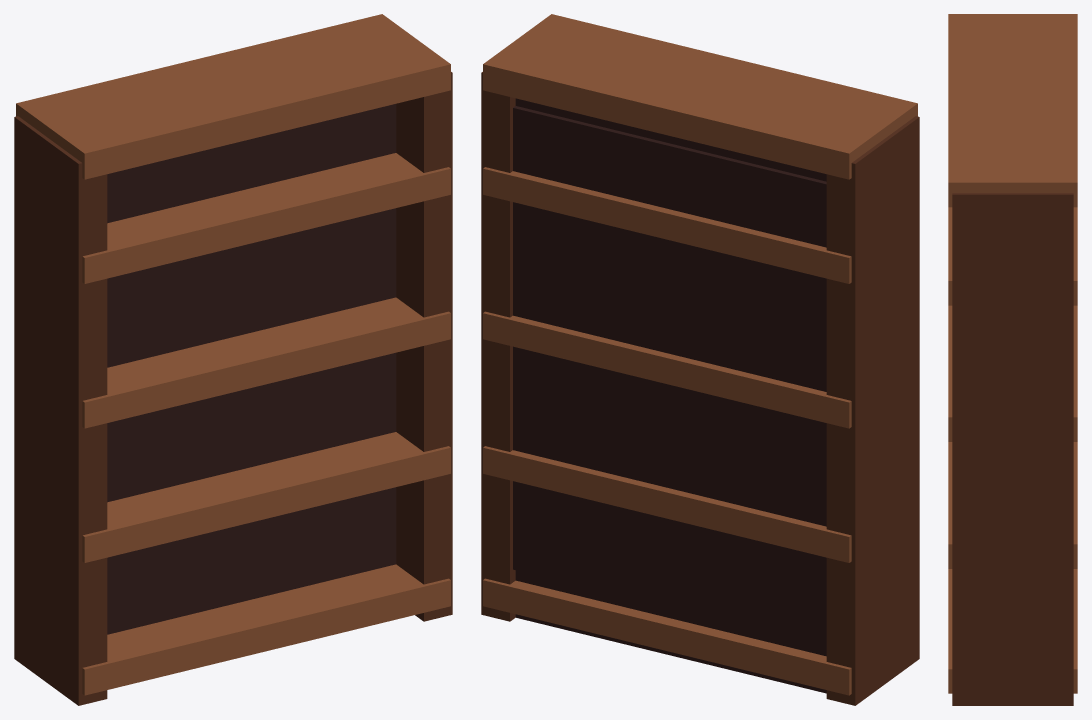
Rendered from bookshelf.obj.
3 renders of one model, left to right at view 1: azimuth 30°, elevation 25°; view 2: azimuth 150°, elevation 25°; view 3: azimuth 270°, elevation 25°, orthographic. The views are drawn at different scales.
Visible parts, largest first — view 1: bookshelf; view 2: bookshelf; view 3: bookshelf.
Boxes of the visible parts, x1,y1,x2,y2 form: bookshelf: [14, 14, 452, 705]; bookshelf: [481, 14, 919, 705]; bookshelf: [948, 14, 1077, 705].
Bounding box in the file's own units: 1.95 × 2.76 × 0.62.
